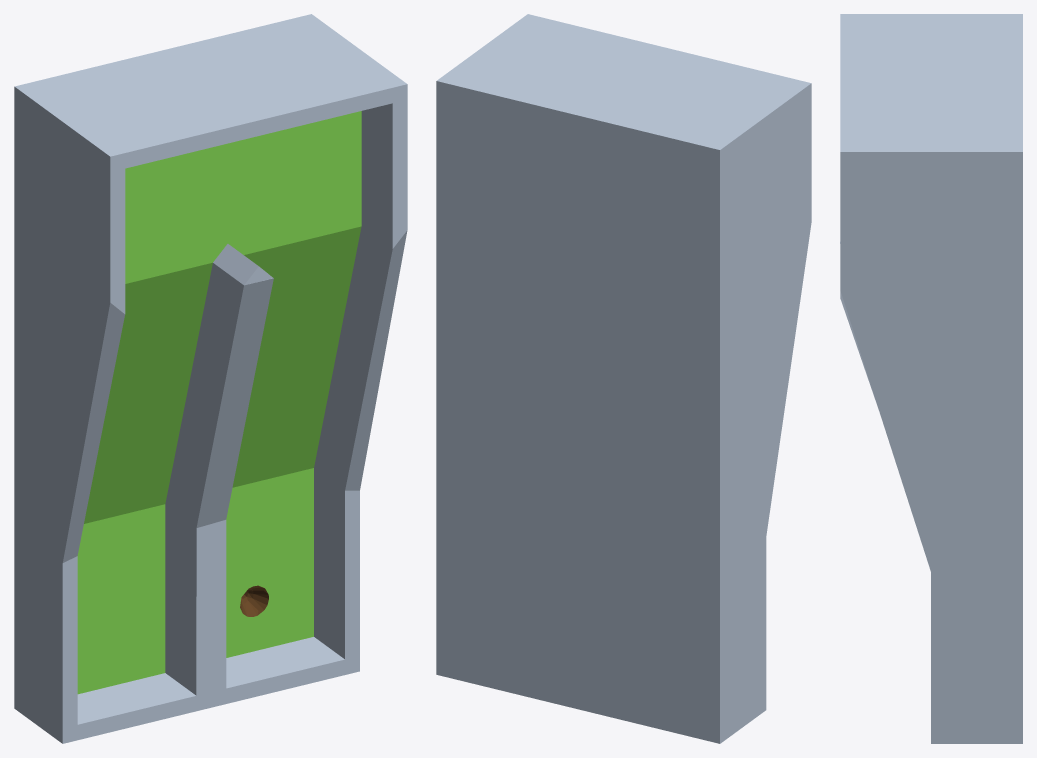
Rendered from minigolf_course_test.glb.
The picture shows the model from 3 angles, left to right: view 1: azimuth 30°, elevation 25°; view 2: azimuth 150°, elevation 25°; view 3: azimuth 270°, elevation 25°; orthographic projection. The views are drawn at different scales.
Visible parts, largest first — view 1: Course; view 2: Course; view 3: Course.
Part boxes in pixels (x1,y1,x2,y2): Course: (14,14,407,743); Course: (436,14,811,743); Course: (840,14,1022,743).
Size of the model in its own units: 20 by 40 by 11.19.
